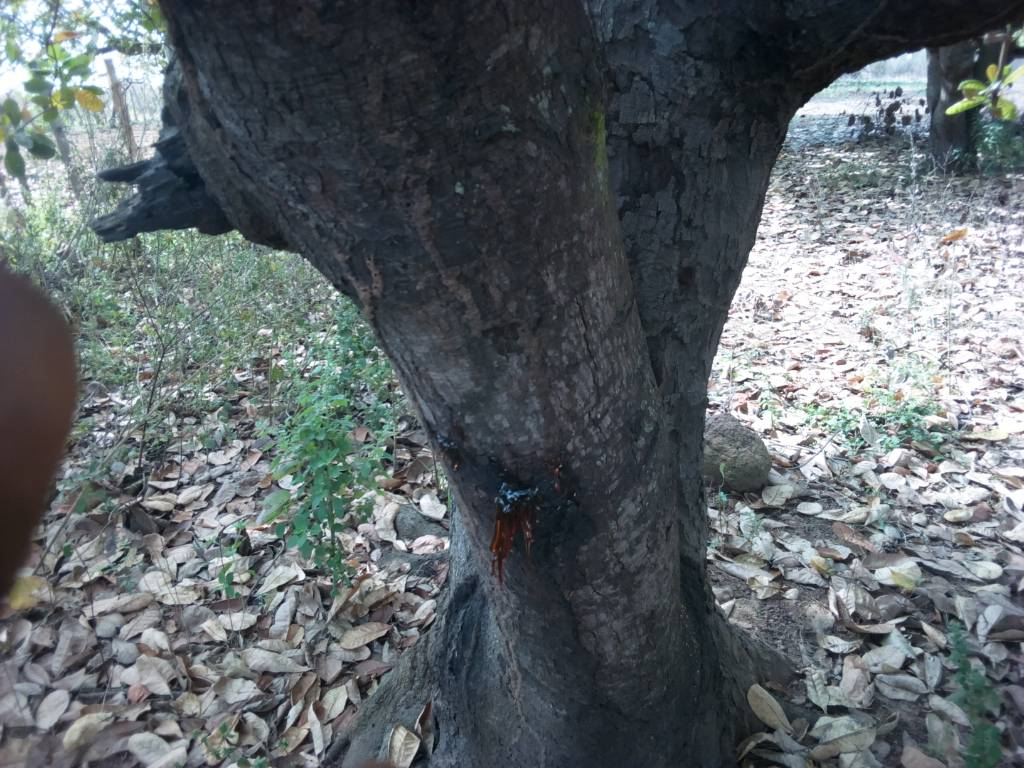Gommose: (425, 415, 582, 579)
